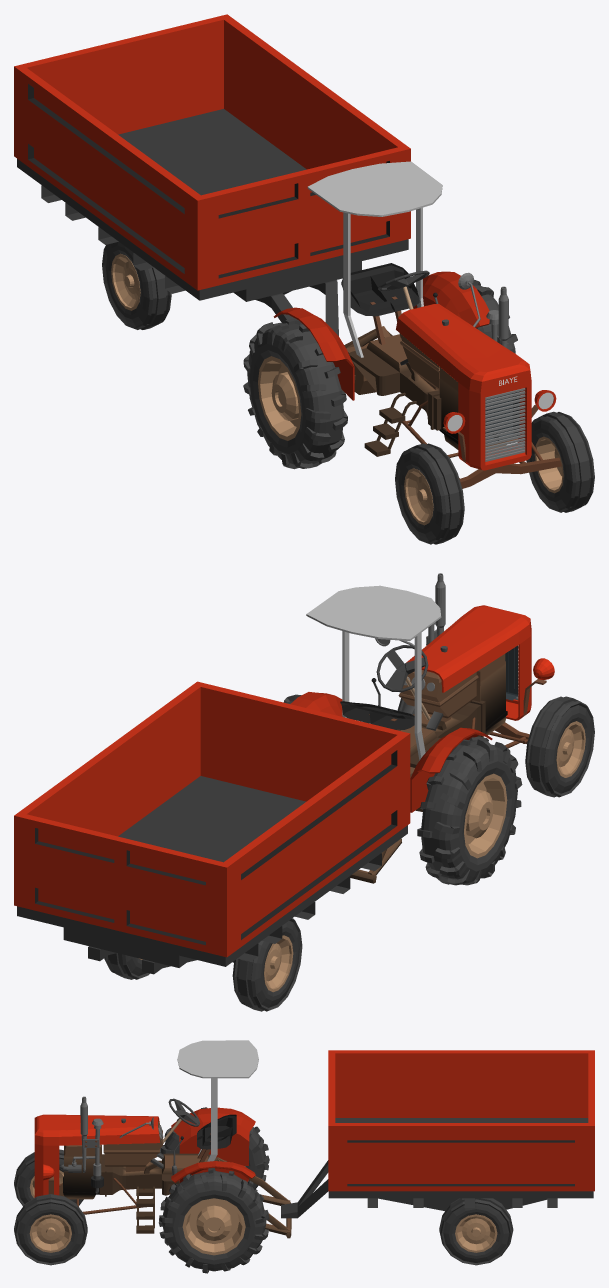
The model's file is tractor.glb.
The picture shows the model from 3 angles, top to bottom: view 1: azimuth 30°, elevation 25°; view 2: azimuth 150°, elevation 25°; view 3: azimuth 270°, elevation 25°; orthographic projection. The views are drawn at different scales.
Parts seen in each view (by area): view 1: Trailer_bagage.002, Capot, Chassis, object 13, Pare soleil, Pneu avant droit, Garde boue, Pneu avant gauche, Trailer pneu droit, Jante arriere droit, Trailer_chassis, Trailer jante droit (+5 smaller); view 2: Trailer_bagage.002, object 13, Chassis, Capot, Pare soleil, Pneu avant droit, Trailer pneu droit, Garde boue, Jante arriere droit, Trailer_chassis, Jante avant droit, Trailer jante droit (+4 smaller); view 3: Trailer_bagage.002, Chassis, object 14, Capot, Pare soleil, Garde boue, Pneu avant gauche, object 7, Trailer pneu gauche, Trailer_chassis, Echappement, Jante avant gauche (+5 smaller).
Part boxes in pixels (left/top/right/bottom): Trailer_bagage.002: left=14, top=14, right=410, bottom=301; Capot: left=396, top=272, right=556, bottom=470; Chassis: left=341, top=263, right=561, bottom=488; object 13: left=243, top=319, right=347, bottom=469; Pare soleil: left=307, top=161, right=442, bottom=357; Pneu avant droit: left=395, top=443, right=464, bottom=544; Garde boue: left=273, top=271, right=489, bottom=400; Pneu avant gauche: left=526, top=411, right=594, bottom=512; Trailer pneu droit: left=102, top=242, right=171, bottom=329; Jante arriere droit: left=258, top=356, right=301, bottom=440; Trailer_chassis: left=41, top=185, right=338, bottom=335; Trailer jante droit: left=111, top=253, right=140, bottom=310; Trailer_bagage.002: left=14, top=681, right=410, bottom=967; object 13: left=417, top=736, right=522, bottom=885; Chassis: left=340, top=646, right=529, bottom=883; Capot: left=375, top=605, right=554, bottom=720; Pare soleil: left=306, top=585, right=441, bottom=760; Pneu avant droit: left=525, top=696, right=594, bottom=797; Trailer pneu droit: left=232, top=918, right=302, bottom=1011; Garde boue: left=290, top=692, right=492, bottom=812; Jante arriere droit: left=464, top=773, right=507, bottom=858; Trailer_chassis: left=88, top=853, right=381, bottom=974; Jante avant droit: left=556, top=721, right=585, bottom=777; Trailer jante droit: left=264, top=935, right=293, bottom=992; Trailer_bagage.002: left=328, top=1050, right=594, bottom=1198; Chassis: left=59, top=1114, right=291, bottom=1238; object 14: left=158, top=1168, right=269, bottom=1273; Capot: left=34, top=1114, right=159, bottom=1197; Pare soleil: left=177, top=1040, right=258, bottom=1161; Garde boue: left=171, top=1107, right=255, bottom=1182; Pneu avant gauche: left=14, top=1194, right=87, bottom=1265; object 7: left=182, top=1198, right=245, bottom=1255; Trailer pneu gauche: left=439, top=1198, right=513, bottom=1265; Trailer_chassis: left=281, top=1160, right=557, bottom=1218; Echappement: left=59, top=1096, right=103, bottom=1193; Jante avant gauche: left=29, top=1214, right=71, bottom=1252.
Bounding box in the file's own units: 1.24 × 1.39 × 4.04.
Materials: 3 (2 with a texture image).
